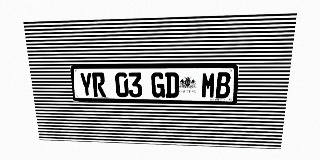0: (115, 72, 129, 97)
3: (128, 72, 142, 97)
B: (215, 72, 231, 98)
D: (165, 72, 179, 98)
G: (151, 72, 165, 98)
M: (201, 72, 216, 98)
R: (92, 72, 106, 97)
Y: (79, 72, 93, 97)
